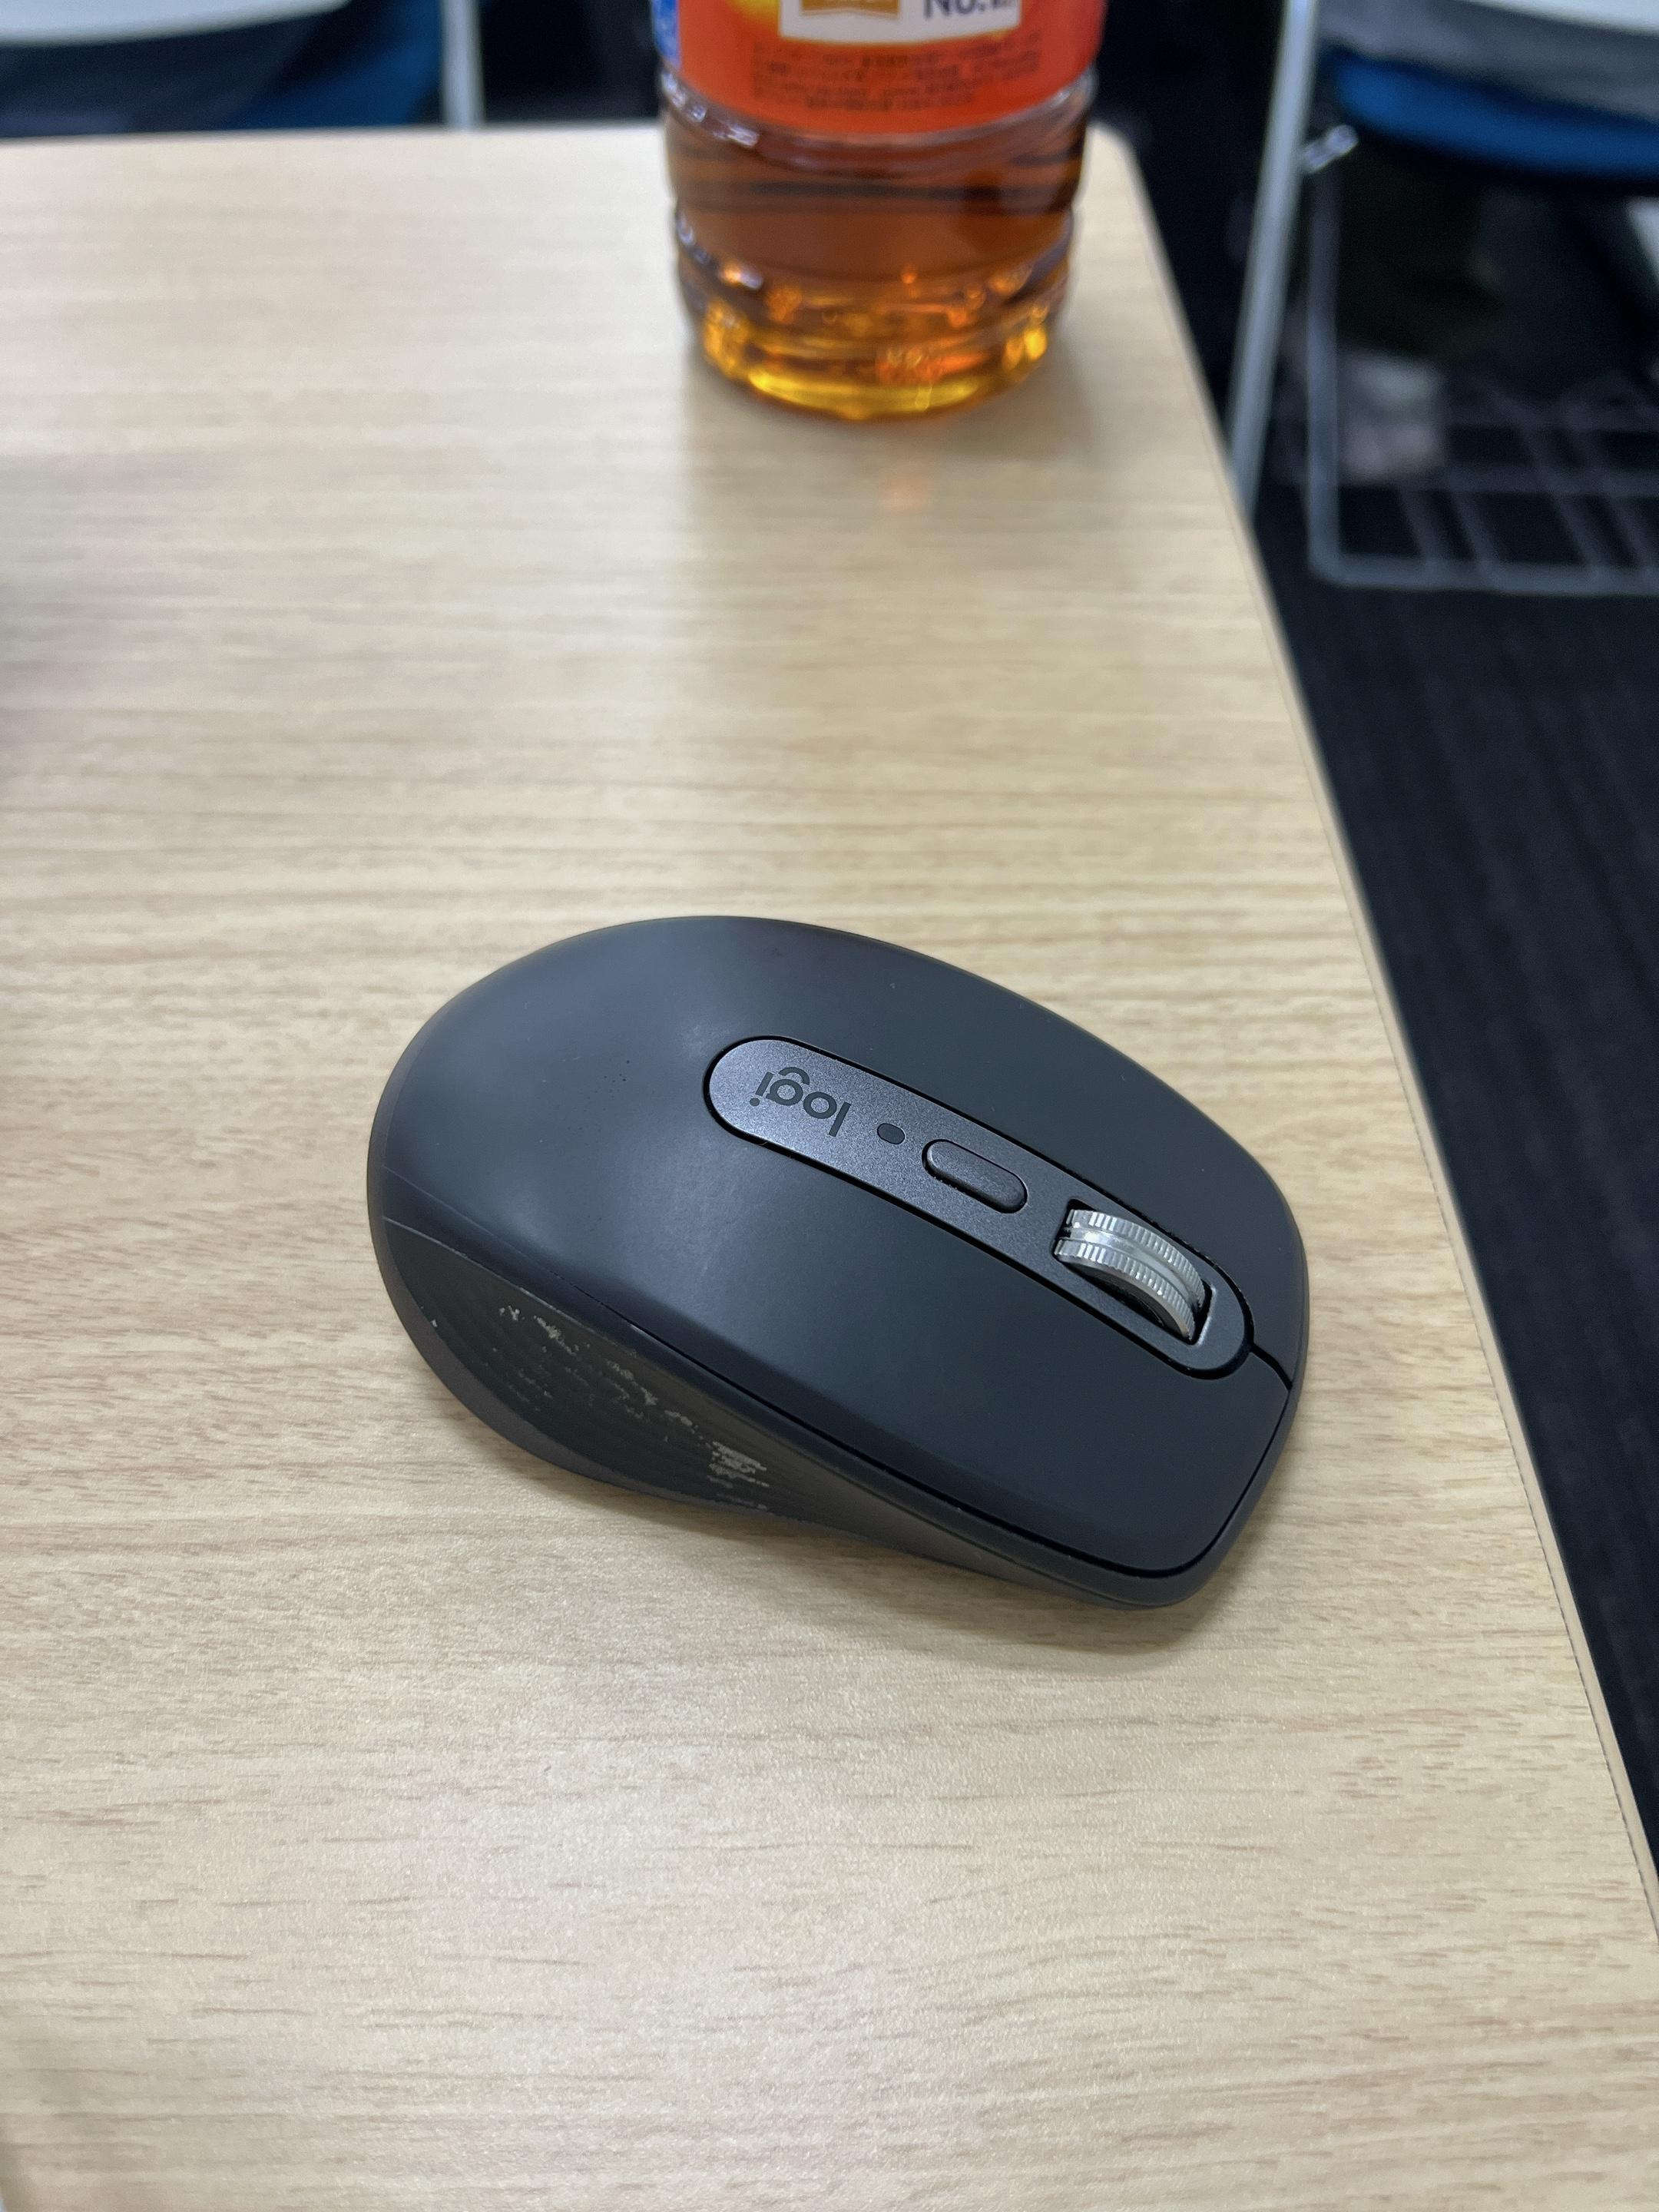mouse: (369, 846, 1344, 1655)
